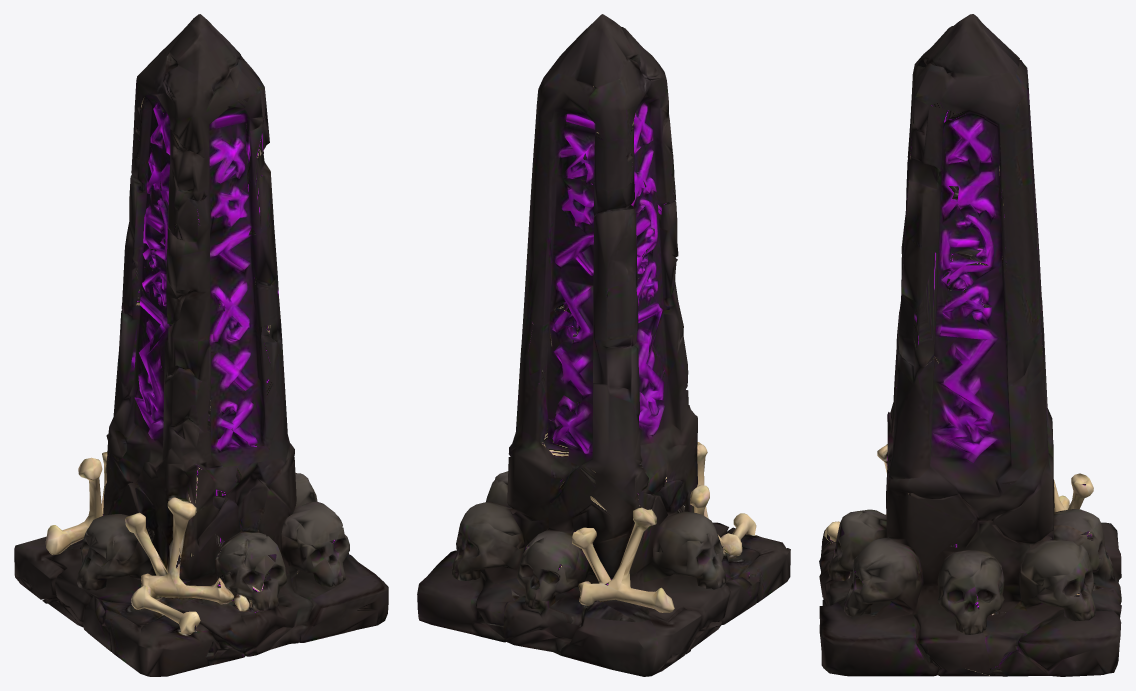
The model's file is statue-undead.glb.
3 views of the same model, side by side, from view 1: azimuth 30°, elevation 25°; view 2: azimuth 150°, elevation 25°; view 3: azimuth 270°, elevation 25° (orthographic). The views are drawn at different scales.
Parts seen in each view (by area): view 1: tripo_node_b6f08d4c-09ee-4227-b629-164053825f19; view 2: tripo_node_b6f08d4c-09ee-4227-b629-164053825f19; view 3: tripo_node_b6f08d4c-09ee-4227-b629-164053825f19.
Boxes of the visible parts, x1,y1,x2,y2 form: tripo_node_b6f08d4c-09ee-4227-b629-164053825f19: [14, 14, 388, 676]; tripo_node_b6f08d4c-09ee-4227-b629-164053825f19: [417, 14, 790, 676]; tripo_node_b6f08d4c-09ee-4227-b629-164053825f19: [819, 14, 1121, 676].
Size of the model in its own units: 0.4451 by 0.9788 by 0.4462.
1 material, 1 textured.
